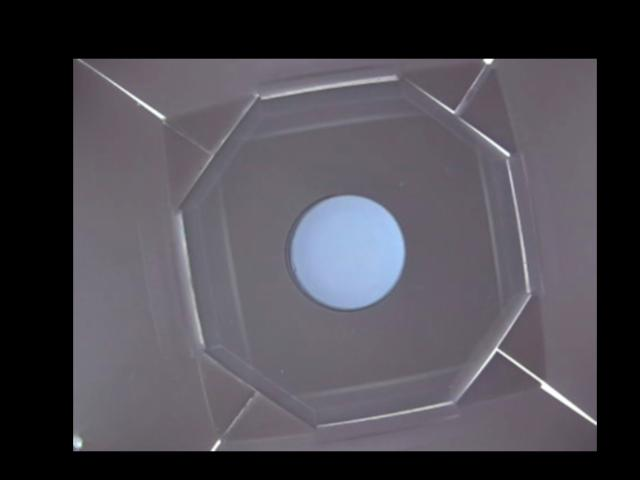Cup: (287, 193, 406, 309)
